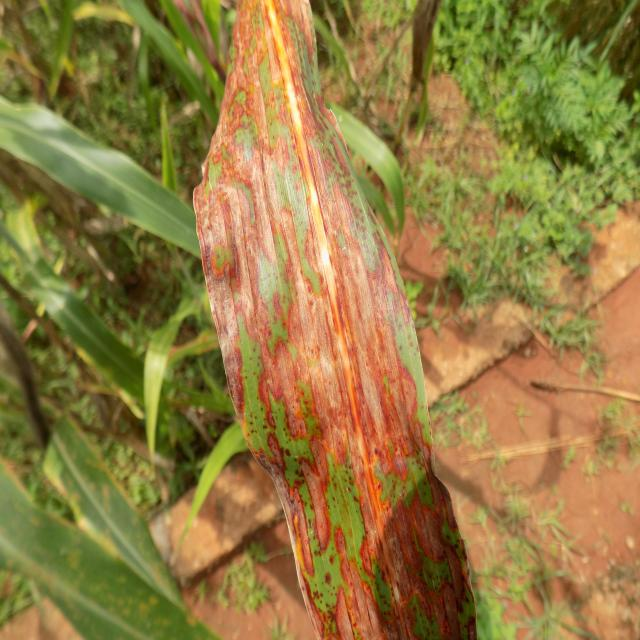millet_healthy: (0, 237, 188, 442), (0, 95, 208, 262), (179, 379, 275, 555), (325, 89, 413, 234)
millet_rust: (193, 1, 477, 640), (4, 446, 219, 640), (34, 400, 188, 620)
